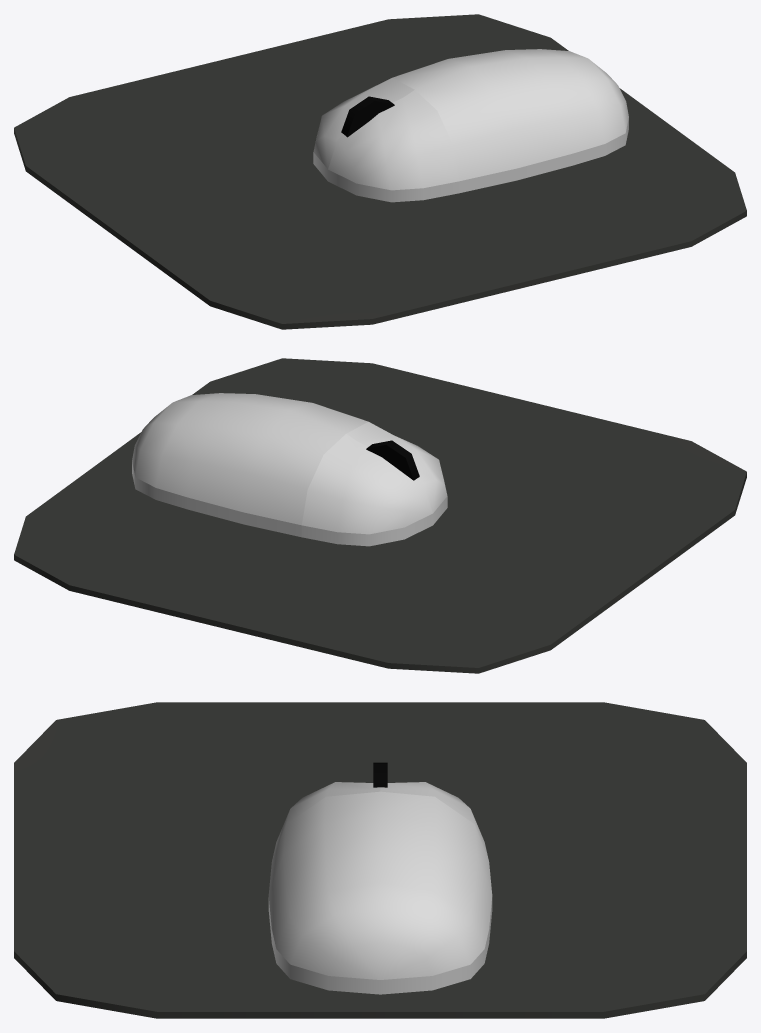
The model's file is mouseandpad.glb.
3 renders of one model, top to bottom at view 1: azimuth 30°, elevation 25°; view 2: azimuth 150°, elevation 25°; view 3: azimuth 270°, elevation 25°, orthographic. The views are drawn at different scales.
Parts seen in each view (by area): view 1: mosuepad, mouse; view 2: mosuepad, mouse; view 3: mosuepad, mouse.
Boxes of the visible parts, box(x1,y1,x2,y2) form: mosuepad: box(14, 14, 746, 329); mouse: box(313, 49, 628, 202); mosuepad: box(14, 358, 746, 673); mouse: box(132, 393, 447, 546); mosuepad: box(14, 702, 746, 1018); mouse: box(268, 762, 492, 994).
Size of the model in its own units: 0.257 by 0.0402 by 0.257.
Materials: 1 (1 with a texture image).
